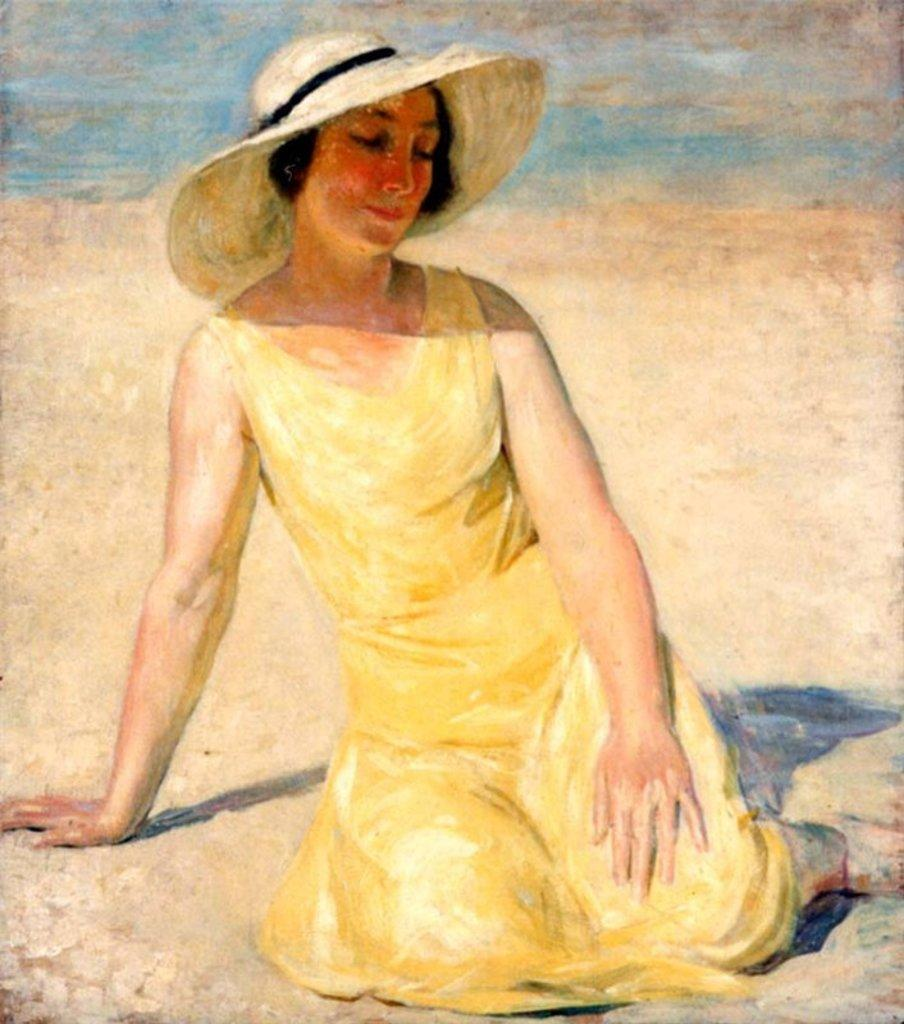Hat: (167, 20, 550, 300)
